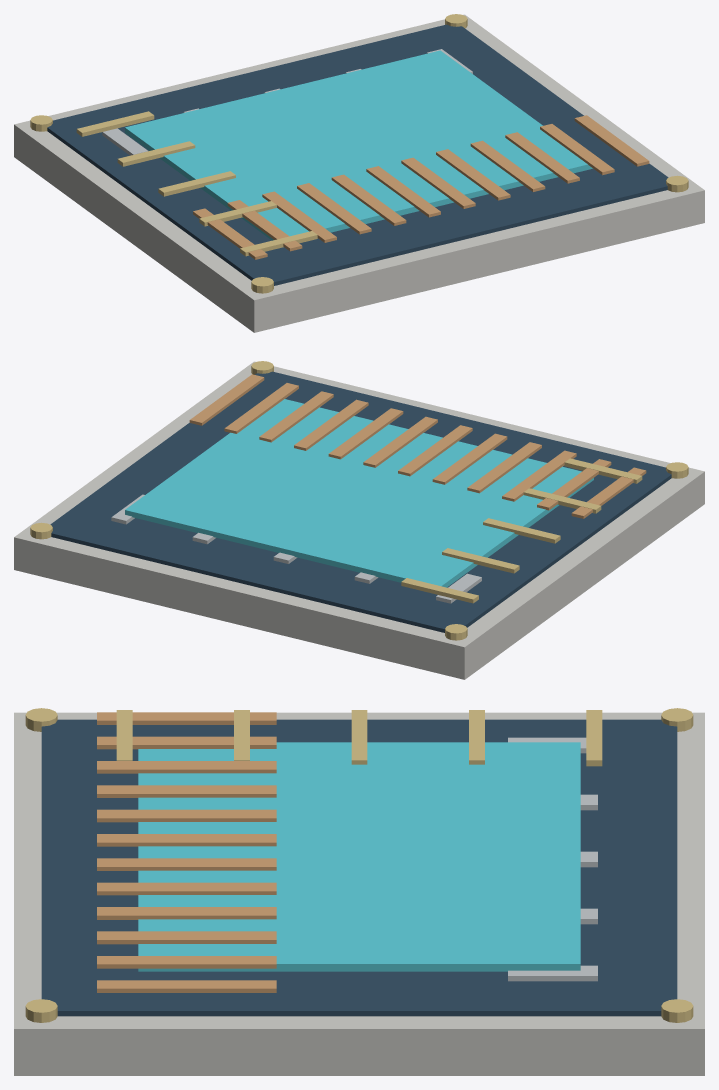
Rendered from 06_L79_LogicChiplet.glb.
3 views of the same model, one above another, from view 1: azimuth 30°, elevation 25°; view 2: azimuth 150°, elevation 25°; view 3: azimuth 270°, elevation 25° (orthographic). The views are drawn at different scales.
Parts seen in each view (by area): view 1: LogicChiplet_Node_0002, LogicChiplet_Node_0001, LogicChiplet_Node_0000, LogicChiplet_Node_0014, LogicChiplet_Node_0007, LogicChiplet_Node_0008, LogicChiplet_Node_0009, LogicChiplet_Node_0013, LogicChiplet_Node_0011, LogicChiplet_Node_0006, LogicChiplet_Node_0010, LogicChiplet_Node_0012 (+9 smaller); view 2: LogicChiplet_Node_0002, LogicChiplet_Node_0000, LogicChiplet_Node_0001, LogicChiplet_Node_0014, LogicChiplet_Node_0010, LogicChiplet_Node_0009, LogicChiplet_Node_0008, LogicChiplet_Node_0007, LogicChiplet_Node_0011, LogicChiplet_Node_0006, LogicChiplet_Node_0012, LogicChiplet_Node_0013 (+8 smaller); view 3: LogicChiplet_Node_0002, LogicChiplet_Node_0001, LogicChiplet_Node_0000, LogicChiplet_Node_0007, LogicChiplet_Node_0010, LogicChiplet_Node_0012, LogicChiplet_Node_0005, LogicChiplet_Node_0006, LogicChiplet_Node_0008, LogicChiplet_Node_0009, LogicChiplet_Node_0011, LogicChiplet_Node_0013 (+13 smaller).
Part boxes in pixels (x1,y1,x2,y2): LogicChiplet_Node_0002: (125, 50, 592, 240); LogicChiplet_Node_0001: (47, 24, 668, 285); LogicChiplet_Node_0000: (14, 14, 704, 332); LogicChiplet_Node_0014: (574, 115, 649, 166); LogicChiplet_Node_0007: (331, 174, 406, 225); LogicChiplet_Node_0008: (366, 166, 440, 217); LogicChiplet_Node_0009: (401, 157, 475, 208); LogicChiplet_Node_0013: (540, 124, 614, 175); LogicChiplet_Node_0011: (470, 140, 545, 191); LogicChiplet_Node_0006: (297, 183, 371, 234); LogicChiplet_Node_0010: (436, 149, 510, 200); LogicChiplet_Node_0012: (505, 132, 579, 183); LogicChiplet_Node_0002: (125, 399, 593, 587); LogicChiplet_Node_0000: (14, 361, 704, 679); LogicChiplet_Node_0001: (50, 371, 671, 632); LogicChiplet_Node_0014: (189, 374, 264, 425); LogicChiplet_Node_0010: (328, 408, 403, 459); LogicChiplet_Node_0009: (363, 416, 437, 467); LogicChiplet_Node_0008: (398, 425, 472, 476); LogicChiplet_Node_0007: (432, 433, 507, 484); LogicChiplet_Node_0011: (294, 399, 368, 450); LogicChiplet_Node_0006: (467, 442, 541, 493); LogicChiplet_Node_0012: (259, 391, 333, 442); LogicChiplet_Node_0013: (224, 383, 298, 433); LogicChiplet_Node_0002: (138, 742, 580, 971); LogicChiplet_Node_0001: (41, 719, 677, 1016); LogicChiplet_Node_0000: (14, 712, 704, 1075); LogicChiplet_Node_0007: (97, 809, 276, 822); LogicChiplet_Node_0010: (97, 882, 276, 895); LogicChiplet_Node_0012: (97, 931, 276, 944); LogicChiplet_Node_0005: (97, 761, 276, 773); LogicChiplet_Node_0006: (97, 785, 276, 797); LogicChiplet_Node_0008: (97, 834, 276, 846); LogicChiplet_Node_0009: (97, 858, 276, 870); LogicChiplet_Node_0011: (97, 907, 276, 919); LogicChiplet_Node_0013: (97, 956, 276, 968).
Bounding box in the file's own units: 1.3 × 0.1429 × 1.2.
